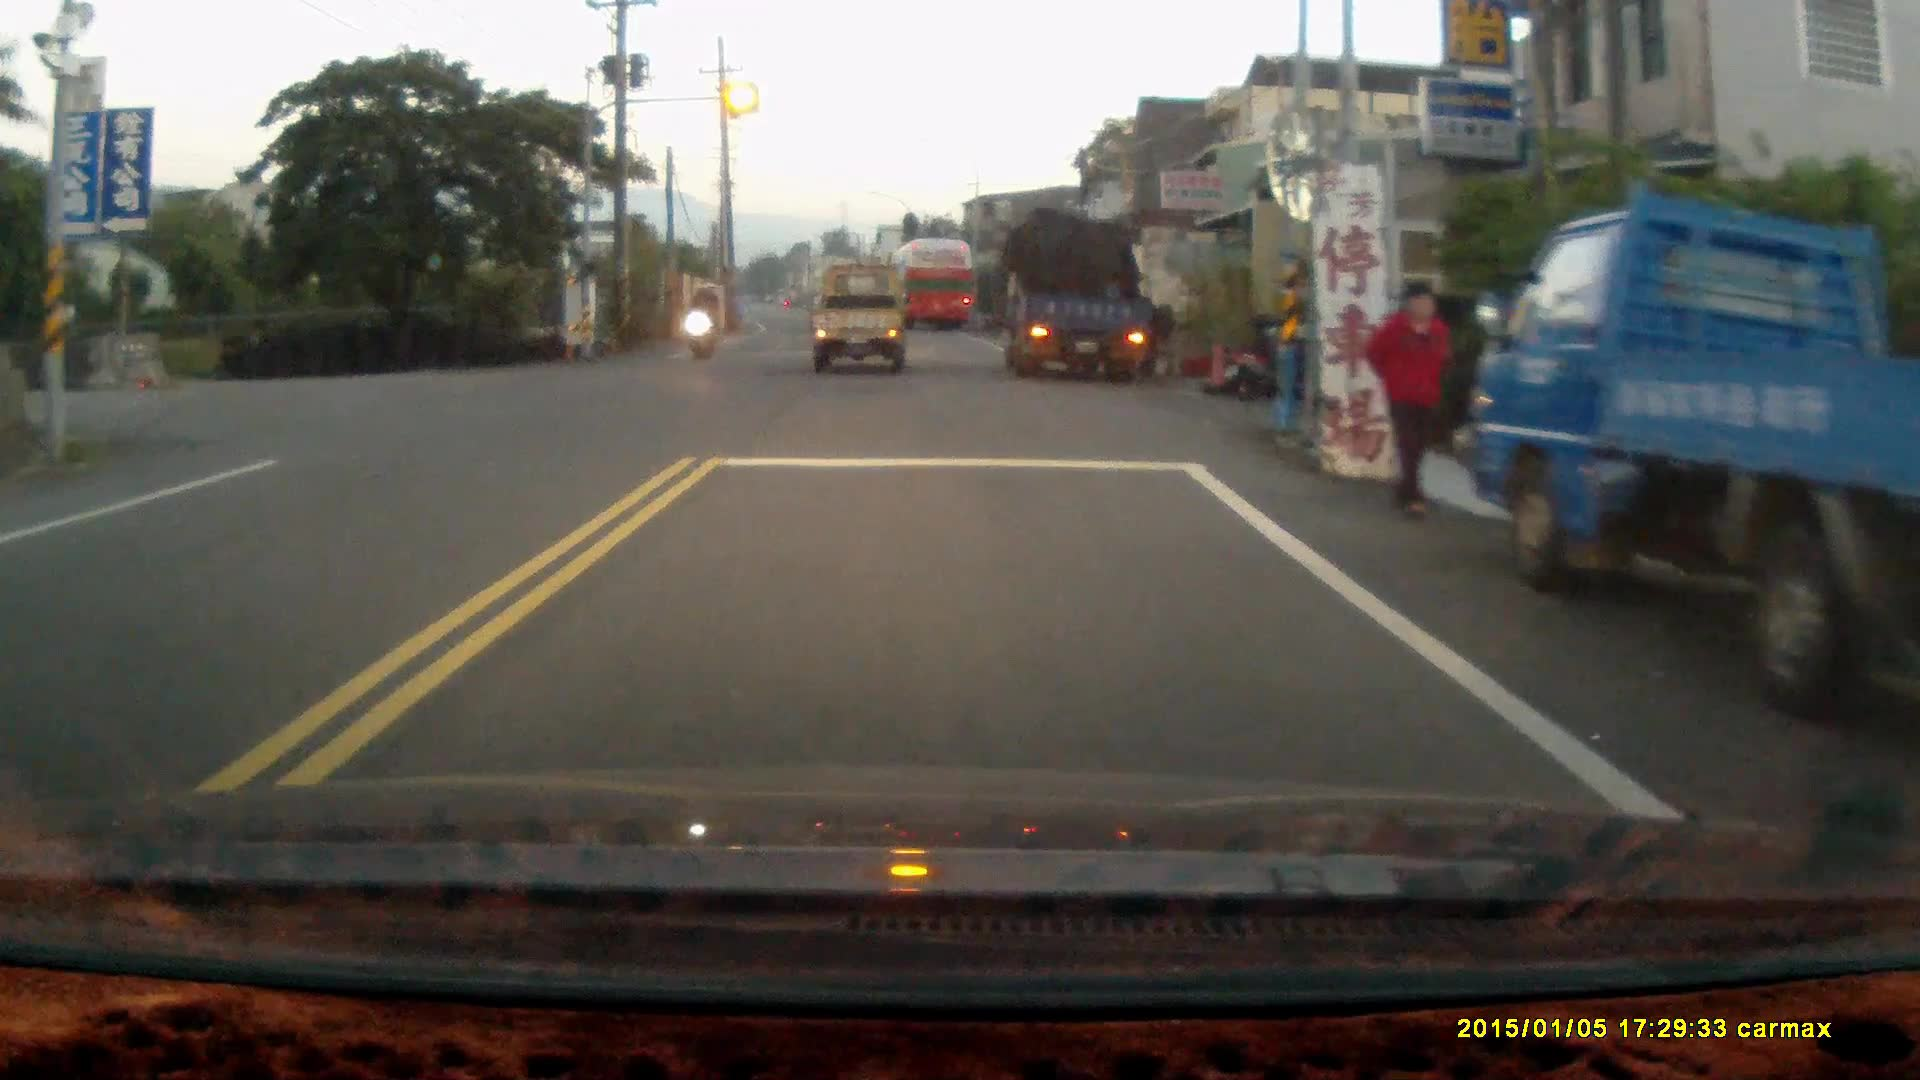pedestrian: (1368, 278, 1451, 522)
rider: (684, 281, 718, 358)
vehicle: (1468, 186, 1917, 750), (996, 206, 1166, 386), (810, 264, 908, 372), (888, 239, 974, 329)
